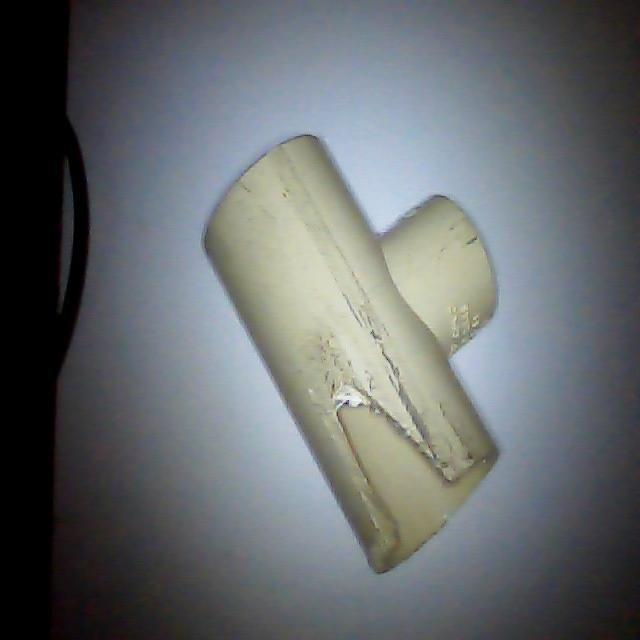Defective: (335, 405, 496, 560), (333, 389, 458, 539)
T Joint: (202, 134, 500, 576)
